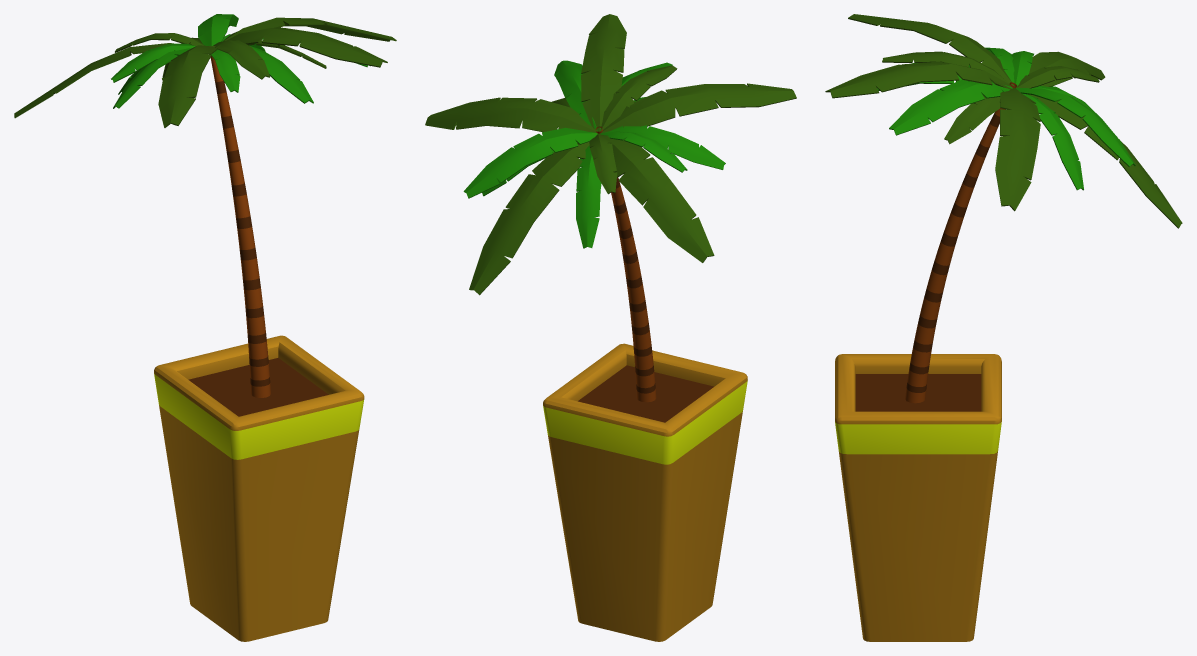
The model's file is Flover.fbx.
3 renders of one model, left to right at view 1: azimuth 30°, elevation 25°; view 2: azimuth 150°, elevation 25°; view 3: azimuth 270°, elevation 25°, orthographic. The views are drawn at different scales.
Visible parts, largest first — view 1: Flover; view 2: Flover; view 3: Flover.
Part boxes in pixels (x1,y1,x2,y2): Flover: (14,14,396,641); Flover: (425,14,796,641); Flover: (825,14,1182,641).
Bounding box in the file's own units: 739 × 1194 × 673.
